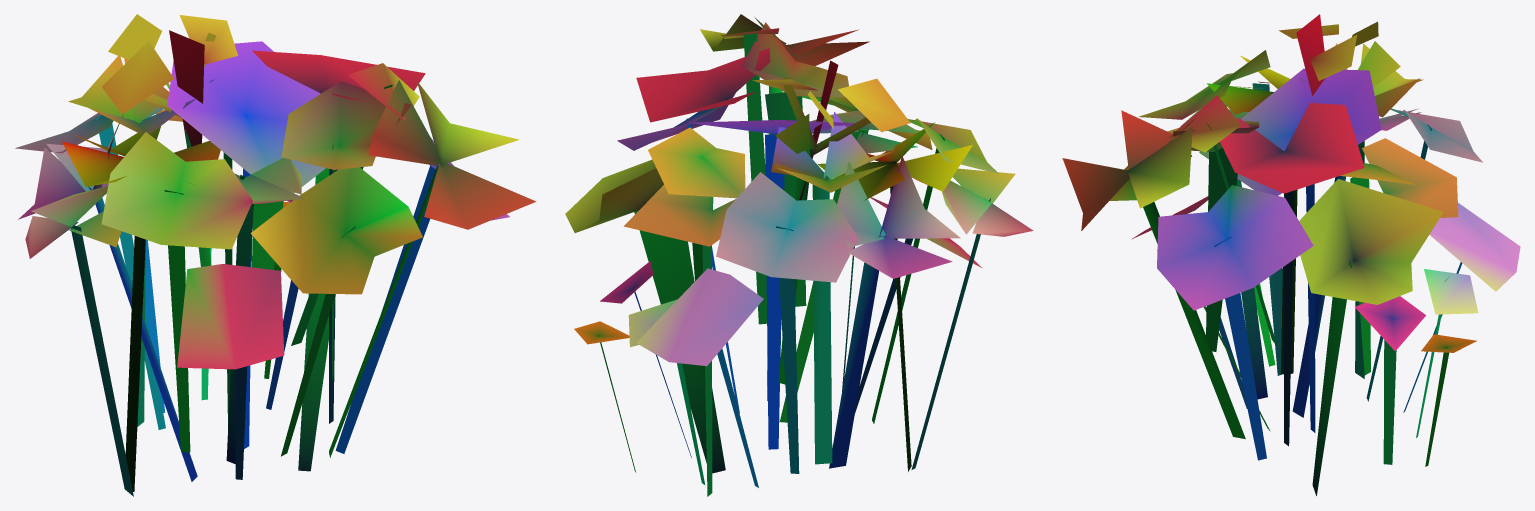
Rendered from Purple_Shamrock_rjrrH_Mid_rjrrH_VarA_LOD2.fbx.
3 renders of one model, left to right at view 1: azimuth 30°, elevation 25°; view 2: azimuth 150°, elevation 25°; view 3: azimuth 270°, elevation 25°, orthographic. The views are drawn at different scales.
Parts seen in each view (by area): view 1: _8d45_VarA_LOD3; view 2: _8d45_VarA_LOD3; view 3: _8d45_VarA_LOD3.
Boxes of the visible parts, x1,y1,x2,y2 form: _8d45_VarA_LOD3: [15, 14, 536, 496]; _8d45_VarA_LOD3: [565, 14, 1033, 496]; _8d45_VarA_LOD3: [1062, 14, 1520, 495].
Size of the model in its own units: 41.43 by 42.19 by 41.49.
